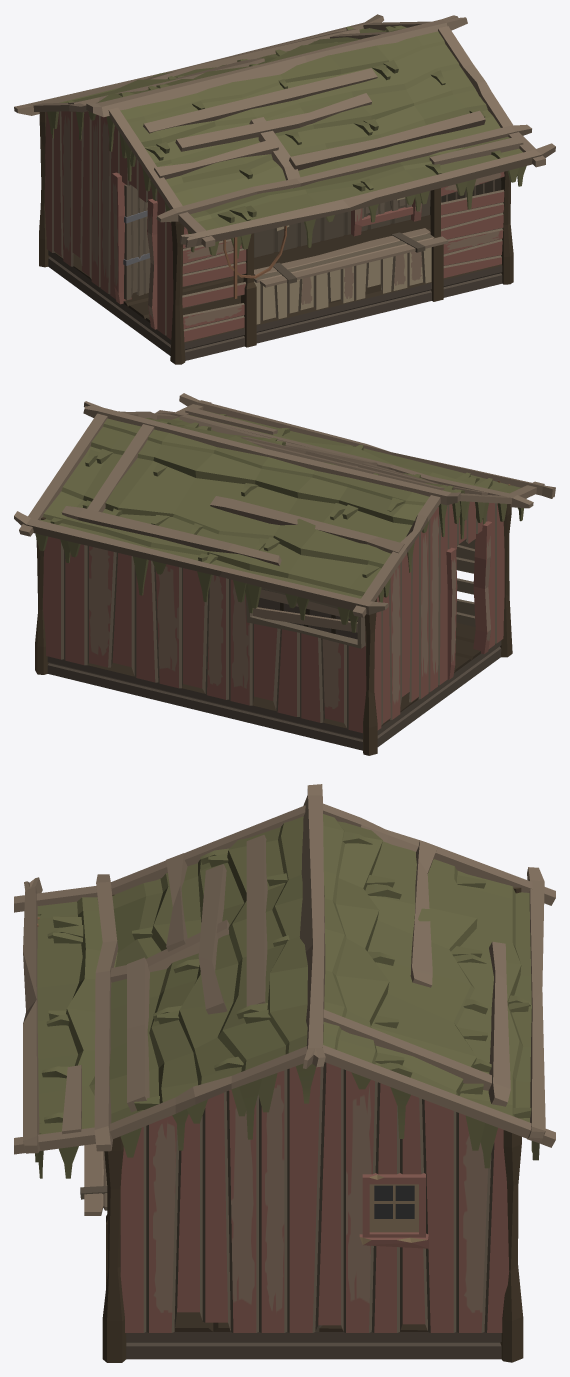
File: SM_Bld_Shanty_Preset_Bar_01.fbx
3 renders of one model, top to bottom at view 1: azimuth 30°, elevation 25°; view 2: azimuth 150°, elevation 25°; view 3: azimuth 270°, elevation 25°, orthographic. The views are drawn at different scales.
Visible parts, largest first — view 1: SM_Bld_Shanty_Preset_Bar_01; view 2: SM_Bld_Shanty_Preset_Bar_01; view 3: SM_Bld_Shanty_Preset_Bar_01.
Part boxes in pixels (bbox=[...]): SM_Bld_Shanty_Preset_Bar_01: bbox=[14, 14, 555, 364]; SM_Bld_Shanty_Preset_Bar_01: bbox=[14, 393, 555, 755]; SM_Bld_Shanty_Preset_Bar_01: bbox=[14, 784, 555, 1362].
Size of the model in its own units: 7.7 by 4.16 by 6.42.
